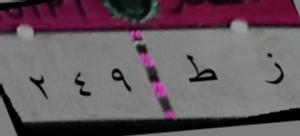2: (26, 67, 57, 106)
4: (71, 63, 94, 104)
9: (108, 64, 140, 101)
Taa: (182, 48, 222, 93)
zay: (257, 49, 292, 91)
